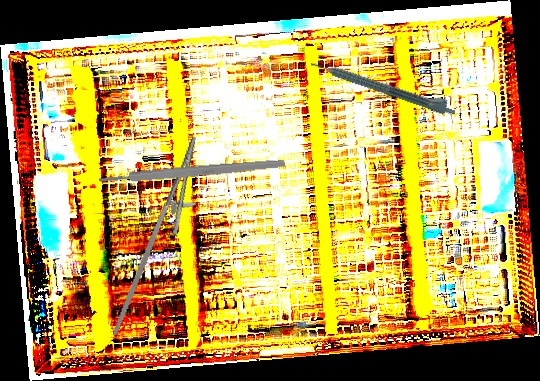Handpiece: (309, 52, 459, 119)
Needle Holder: (111, 129, 213, 347)
Scalpel Handle: (98, 157, 286, 186)
